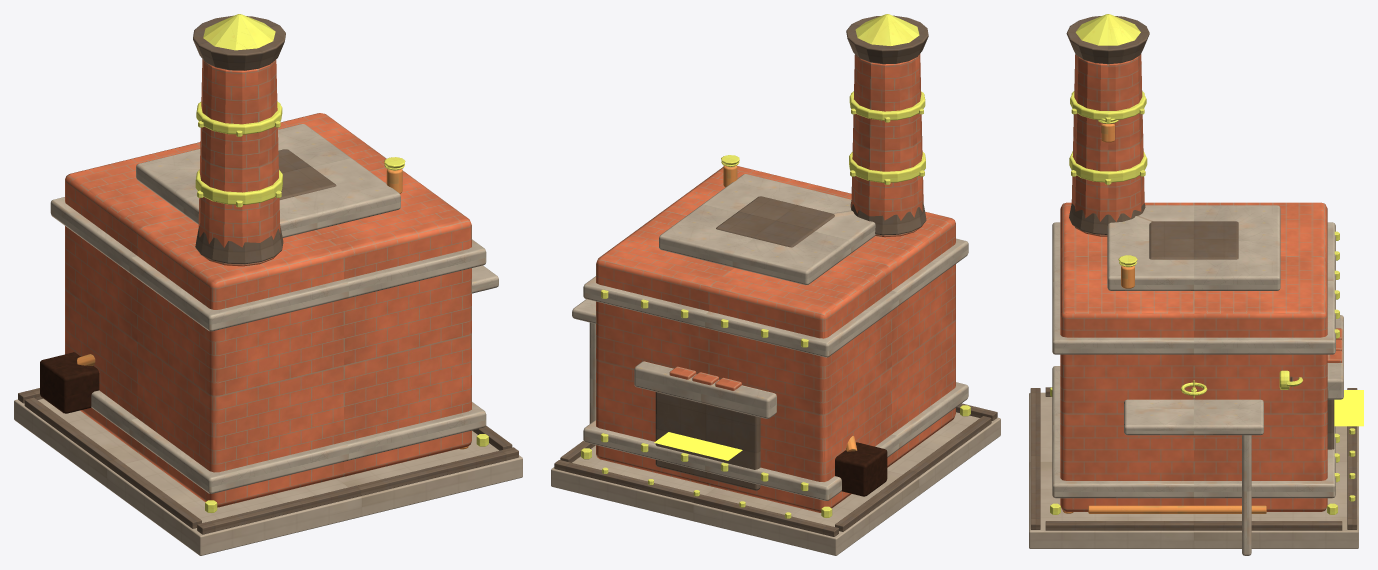
The model's file is ff-stone-furnace.glb.
3 views of the same model, side by side, from view 1: azimuth 30°, elevation 25°; view 2: azimuth 150°, elevation 25°; view 3: azimuth 270°, elevation 25° (orthographic). The views are drawn at different scales.
Visible parts, largest first — view 1: Body, BandLow, Pad.002, PadLipN.002, Bolt.003, Bellows; view 2: Body, BandLow, PadLipN.002, Pad.002, Bolt.003, Bellows, GlowFire.001; view 3: Body, BandLow, PadLipN.002, Pad.002, Bolt.003, PadPipe.002, GlowFire.001.
Boxes of the visible parts, bbox=[...] form: Body: bbox=[65, 59, 471, 507]; BandLow: bbox=[50, 124, 498, 493]; Pad.002: bbox=[14, 398, 522, 555]; PadLipN.002: bbox=[18, 15, 518, 534]; Bolt.003: bbox=[195, 14, 488, 512]; Bellows: bbox=[40, 352, 99, 413]; Body: bbox=[596, 54, 955, 512]; BandLow: bbox=[572, 174, 968, 500]; PadLipN.002: bbox=[554, 15, 997, 536]; Pad.002: bbox=[551, 412, 1000, 555]; Bolt.003: bbox=[581, 14, 970, 518]; Bellows: bbox=[835, 442, 887, 496]; GlowFire.001: bbox=[654, 432, 742, 460]; Body: bbox=[1060, 54, 1342, 511]; BandLow: bbox=[1052, 205, 1343, 555]; PadLipN.002: bbox=[1030, 16, 1357, 530]; Pad.002: bbox=[1029, 392, 1358, 548]; Bolt.003: bbox=[1050, 14, 1355, 514]; PadPipe.002: bbox=[1063, 124, 1266, 513]; GlowFire.001: bbox=[1334, 390, 1363, 426].
Size of the model in its own units: 2.21 by 2.89 by 2.03.
11 materials, 9 textured.
